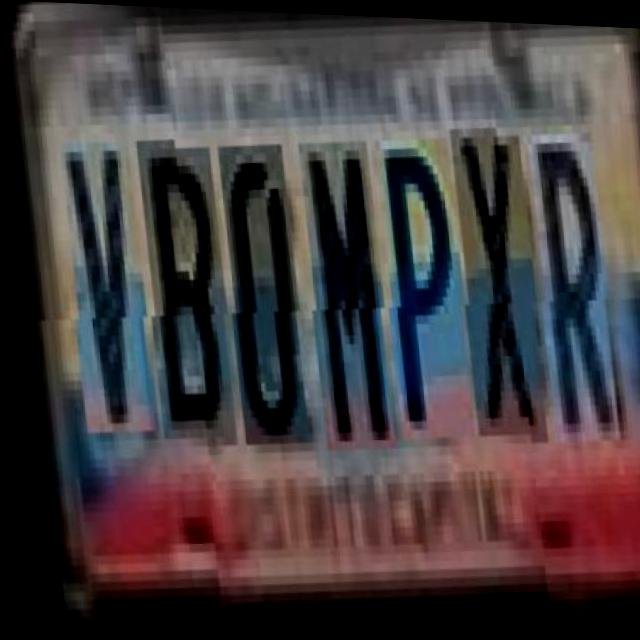0: (213, 144, 303, 448)
b: (133, 145, 232, 451)
m: (295, 141, 390, 454)
p: (370, 139, 469, 445)
r: (523, 126, 614, 440)
v: (57, 149, 151, 445)
x: (447, 128, 541, 442)
